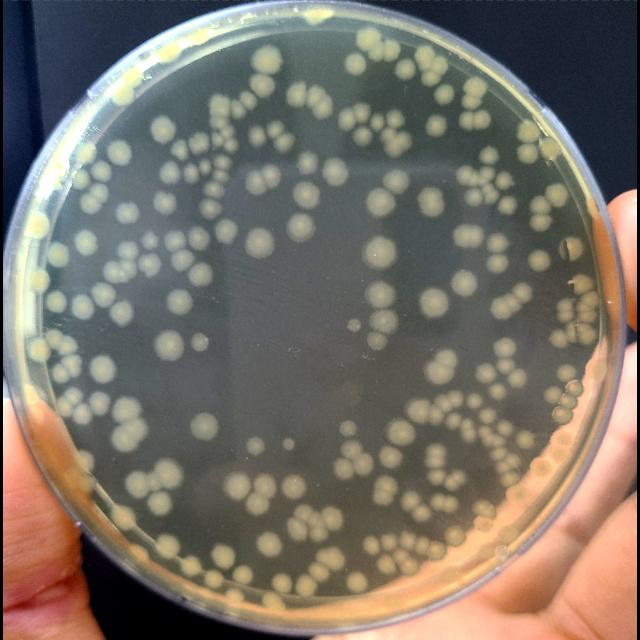colony: (362, 235, 398, 273), (251, 44, 283, 76), (386, 417, 419, 448), (155, 329, 185, 363), (420, 286, 450, 320), (246, 226, 276, 260), (417, 186, 447, 218), (286, 212, 316, 244), (450, 268, 480, 300), (190, 412, 220, 443), (453, 222, 482, 254), (148, 115, 178, 145), (366, 188, 394, 220), (224, 471, 252, 502), (426, 358, 454, 388), (366, 280, 396, 308), (322, 158, 350, 188), (154, 458, 182, 488), (166, 287, 194, 317), (293, 180, 321, 210), (372, 308, 401, 336), (256, 530, 284, 558), (383, 167, 411, 195), (112, 394, 140, 422), (154, 532, 182, 560), (110, 426, 140, 452), (90, 354, 116, 384), (120, 416, 150, 442), (124, 469, 150, 498), (210, 544, 238, 570), (110, 300, 136, 328), (107, 140, 133, 168), (258, 164, 284, 190), (559, 236, 585, 262), (152, 190, 178, 216), (406, 399, 432, 425), (46, 242, 72, 268), (148, 491, 174, 517), (70, 294, 96, 320), (492, 294, 516, 322), (190, 261, 214, 289), (74, 230, 98, 258), (356, 26, 382, 50), (245, 169, 269, 195), (282, 474, 306, 500), (250, 73, 274, 99), (546, 182, 572, 206), (93, 282, 115, 310), (286, 80, 308, 108), (216, 218, 238, 246), (301, 8, 335, 26), (253, 473, 277, 497), (208, 94, 232, 118), (516, 120, 540, 144), (116, 202, 140, 226), (344, 52, 368, 76), (180, 554, 204, 578), (112, 506, 136, 530), (297, 150, 319, 176), (26, 212, 49, 236), (72, 474, 96, 496), (506, 484, 530, 506), (28, 270, 50, 294), (247, 493, 269, 517), (376, 475, 400, 497), (464, 76, 488, 98), (139, 254, 161, 278), (28, 338, 50, 362), (46, 290, 68, 314), (394, 58, 418, 80), (540, 137, 562, 161), (89, 391, 111, 415), (426, 114, 448, 138), (306, 84, 328, 108), (158, 43, 182, 65), (188, 28, 215, 46), (62, 354, 84, 376), (80, 193, 102, 215), (200, 198, 222, 220), (517, 143, 539, 165), (287, 520, 309, 542), (112, 84, 134, 106), (529, 249, 551, 271), (233, 562, 255, 584), (488, 231, 510, 253), (160, 162, 182, 184), (434, 83, 456, 105), (274, 131, 296, 153), (382, 38, 402, 62), (416, 45, 436, 69), (340, 440, 364, 460), (190, 132, 210, 156), (190, 226, 210, 250), (172, 250, 192, 274), (102, 258, 120, 284), (586, 358, 608, 379), (530, 457, 552, 478), (436, 348, 458, 369), (495, 337, 517, 358), (384, 138, 406, 158), (126, 544, 148, 564), (46, 328, 66, 350), (118, 240, 140, 260), (573, 274, 593, 296), (354, 454, 374, 476), (380, 447, 400, 469), (324, 508, 344, 530), (92, 160, 114, 180), (334, 458, 354, 480), (296, 575, 316, 597), (476, 362, 496, 384), (58, 392, 76, 416), (326, 547, 344, 571), (312, 98, 333, 118), (248, 125, 268, 146), (182, 163, 202, 184), (489, 253, 509, 274), (204, 568, 223, 590), (338, 108, 357, 130), (58, 336, 78, 356), (77, 144, 97, 164), (310, 562, 330, 582), (226, 588, 246, 608), (239, 90, 259, 110), (170, 140, 190, 160), (362, 536, 382, 556), (508, 368, 528, 388), (532, 212, 552, 232), (488, 382, 508, 402), (348, 572, 368, 592), (273, 573, 293, 593), (498, 195, 518, 215), (402, 491, 421, 512), (264, 590, 282, 612), (166, 230, 184, 252), (74, 403, 92, 425), (368, 332, 387, 352), (413, 504, 432, 524), (76, 450, 95, 470), (247, 436, 266, 456), (386, 109, 406, 128), (473, 110, 492, 130), (353, 126, 372, 146), (428, 540, 447, 560), (456, 163, 474, 184), (465, 527, 485, 545), (578, 327, 598, 345), (478, 407, 498, 425), (552, 407, 572, 425), (266, 120, 284, 140), (445, 526, 463, 546), (551, 328, 569, 348), (191, 332, 209, 352), (531, 196, 551, 214), (496, 170, 514, 190), (480, 146, 500, 164), (380, 532, 398, 552), (514, 284, 534, 302), (120, 258, 138, 278), (383, 594, 403, 612), (462, 94, 484, 110), (426, 442, 448, 458), (555, 429, 573, 448), (436, 393, 454, 412), (51, 363, 69, 382), (378, 556, 397, 574), (516, 429, 534, 448), (369, 112, 386, 132), (429, 492, 446, 512), (317, 549, 335, 567), (500, 526, 518, 544), (420, 560, 438, 578), (72, 171, 90, 189), (444, 474, 462, 492), (374, 488, 392, 506), (223, 136, 241, 154), (381, 126, 399, 144), (294, 504, 312, 522), (460, 425, 478, 443), (422, 70, 440, 88), (432, 56, 450, 74), (474, 499, 492, 517), (206, 180, 224, 198), (91, 184, 109, 202), (401, 557, 419, 575), (442, 495, 460, 513), (497, 356, 515, 374), (399, 531, 417, 549), (428, 468, 446, 486), (466, 392, 484, 410), (544, 386, 562, 404), (497, 419, 515, 437), (458, 112, 476, 130), (558, 364, 576, 382), (466, 188, 484, 206), (354, 104, 372, 122), (124, 68, 142, 86), (550, 445, 568, 463), (397, 130, 413, 150), (66, 386, 82, 406), (447, 389, 465, 406), (567, 379, 585, 396), (340, 419, 358, 436), (142, 233, 160, 249), (503, 470, 521, 486), (474, 516, 492, 532), (582, 292, 600, 308), (310, 526, 328, 542), (484, 188, 500, 206), (215, 154, 233, 170), (230, 102, 246, 120), (556, 298, 574, 314), (446, 412, 462, 430), (442, 564, 458, 582), (424, 456, 448, 468), (416, 536, 430, 556), (430, 406, 444, 426), (446, 546, 462, 562), (394, 548, 410, 564), (506, 452, 522, 468), (562, 394, 578, 410), (481, 164, 497, 180), (368, 46, 384, 62), (211, 116, 229, 130), (271, 599, 285, 617), (490, 446, 508, 460), (468, 169, 482, 187), (214, 170, 230, 184), (220, 125, 236, 139), (308, 511, 322, 527), (558, 309, 574, 323), (453, 468, 467, 484), (495, 460, 511, 474), (480, 542, 494, 558), (580, 310, 598, 322), (482, 432, 496, 446), (495, 544, 509, 558), (348, 318, 362, 332), (493, 435, 505, 449), (462, 417, 474, 431), (478, 425, 492, 437), (212, 132, 224, 146), (200, 160, 210, 176), (577, 301, 589, 313), (283, 438, 295, 450), (567, 328, 577, 342), (478, 174, 489, 186), (120, 267, 128, 283), (482, 184, 493, 192), (568, 280, 574, 284)
